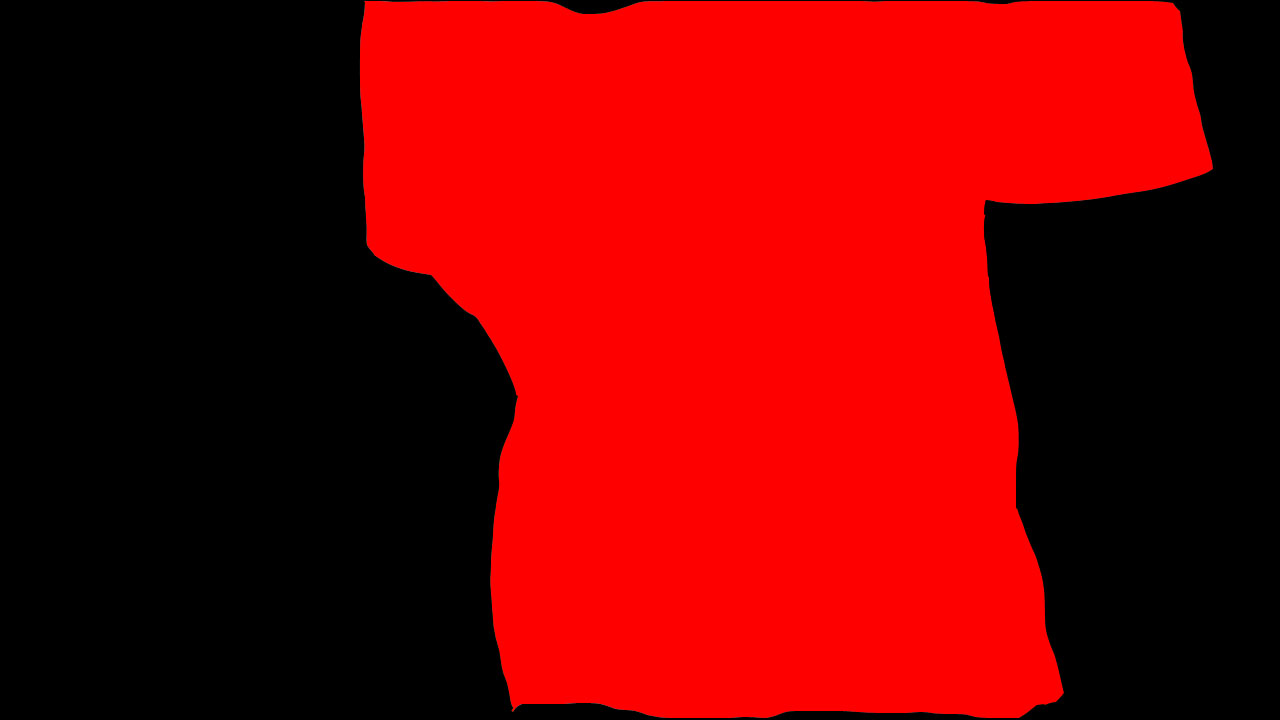uniforme_ifmt: (358, 2, 1214, 720)
